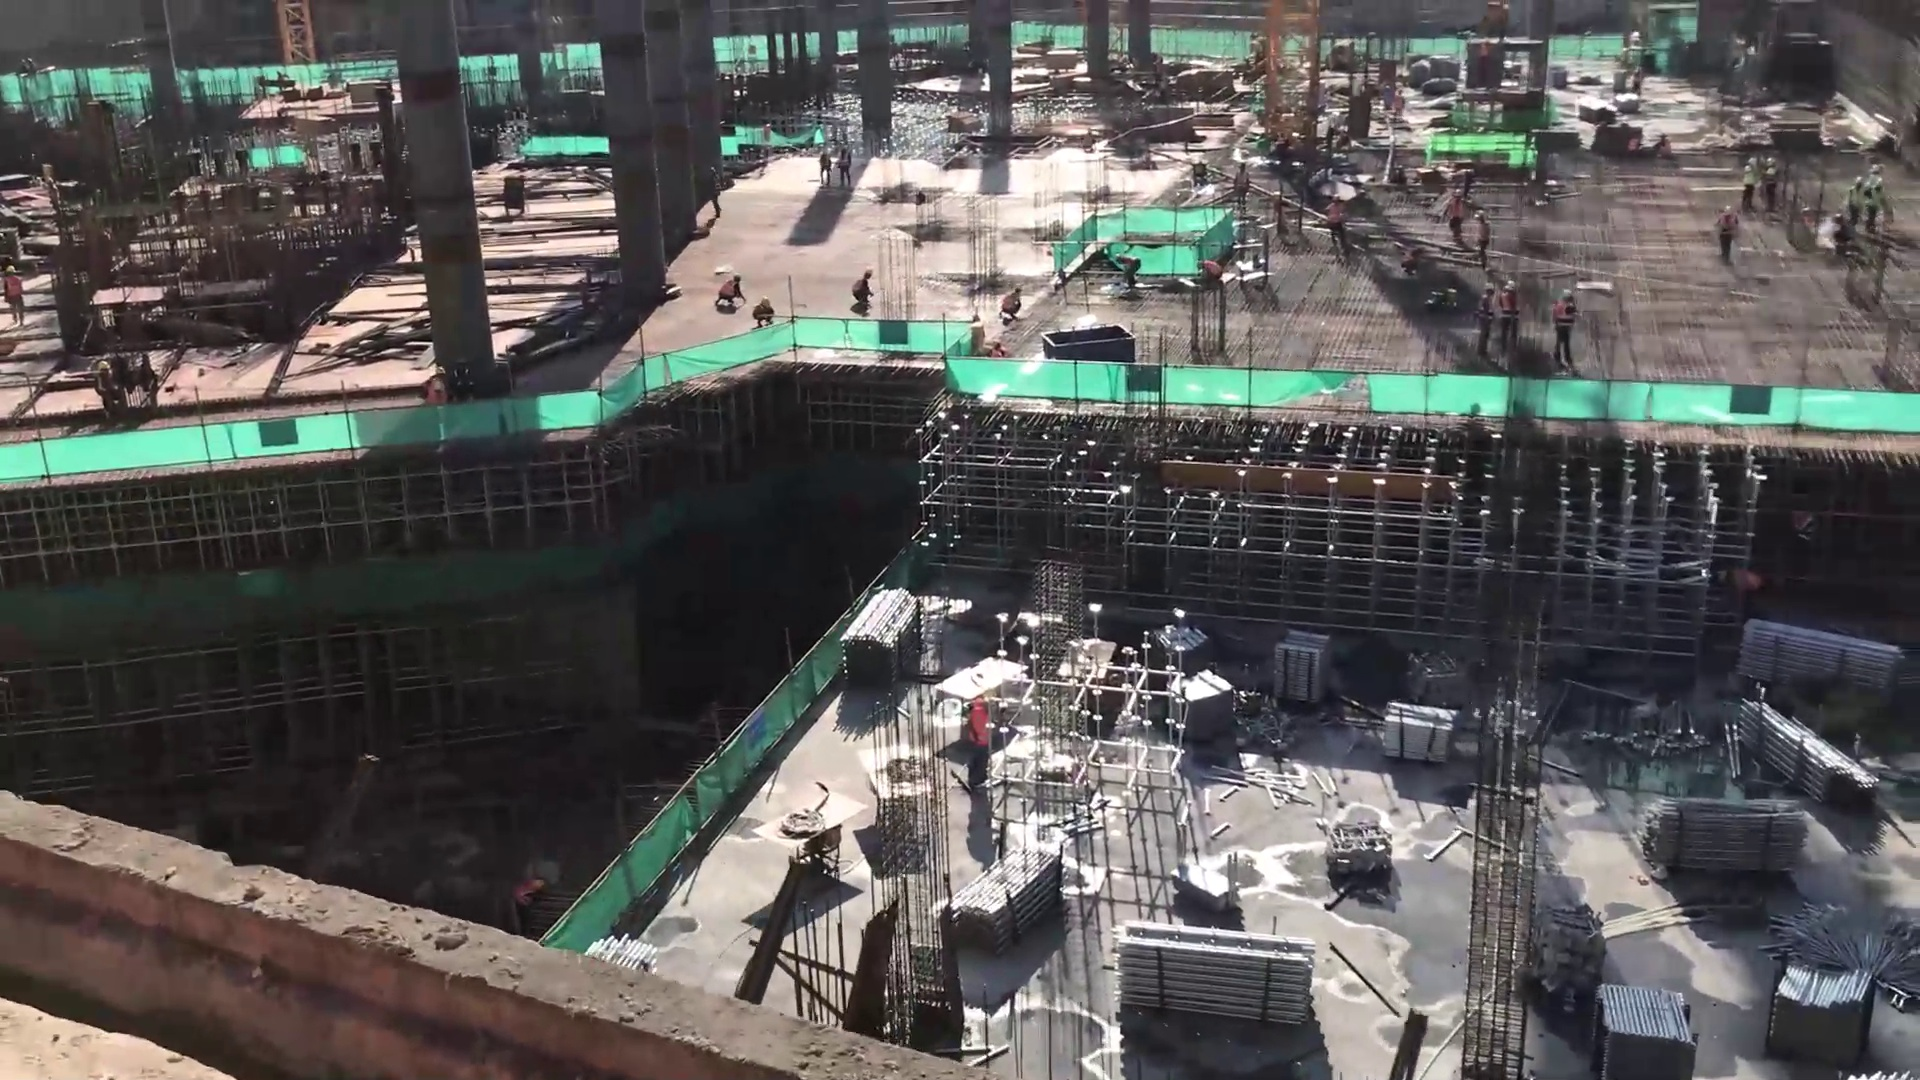helmet: (979, 689, 1008, 723), (1717, 201, 1739, 216), (1482, 281, 1502, 297), (1850, 172, 1867, 188), (1560, 285, 1578, 300), (1503, 275, 1519, 292), (1760, 153, 1776, 168), (1868, 177, 1885, 191), (1744, 154, 1759, 168)
hopper: (1036, 319, 1148, 369)
person: (955, 684, 1001, 794), (1540, 284, 1586, 376), (1468, 274, 1499, 366), (1492, 274, 1524, 352), (1469, 205, 1499, 277), (1709, 199, 1741, 264), (1324, 190, 1355, 252), (1107, 245, 1147, 293), (713, 267, 752, 316), (848, 265, 882, 319), (1442, 183, 1469, 252), (1843, 172, 1871, 234), (1737, 153, 1762, 215), (748, 293, 782, 337), (1760, 153, 1783, 221), (1192, 253, 1225, 297), (1870, 175, 1892, 235), (999, 284, 1028, 327)
scaffold: (1106, 912, 1325, 1034), (1735, 689, 1881, 806), (1732, 613, 1908, 706), (1640, 795, 1811, 881), (935, 848, 1063, 957), (1765, 952, 1883, 1069), (839, 573, 928, 700), (1589, 980, 1700, 1080), (1168, 666, 1243, 744), (1271, 625, 1336, 714), (1382, 699, 1456, 769)
vest: (966, 699, 993, 752), (1549, 303, 1578, 337), (1499, 296, 1525, 328), (1473, 293, 1495, 327), (1870, 179, 1889, 216), (1717, 215, 1740, 241), (1759, 166, 1781, 194), (1737, 166, 1759, 193), (1849, 189, 1868, 214), (1325, 203, 1345, 228), (1203, 256, 1223, 279), (1447, 200, 1464, 225)
